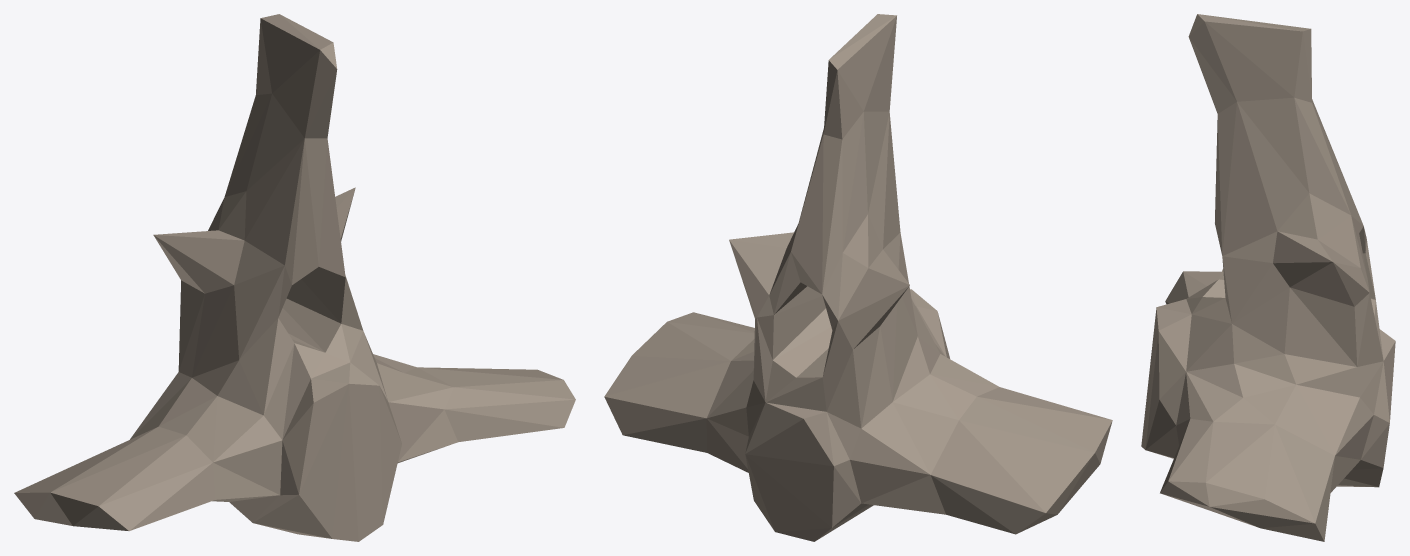
The model's file is SM_Bones_21.fbx.
3 renders of one model, left to right at view 1: azimuth 30°, elevation 25°; view 2: azimuth 150°, elevation 25°; view 3: azimuth 270°, elevation 25°, orthographic. The views are drawn at different scales.
Visible parts, largest first — view 1: SM_Bones_21; view 2: SM_Bones_21; view 3: SM_Bones_21.
Boxes of the visible parts, x1,y1,x2,y2 form: SM_Bones_21: (14,14,575,541); SM_Bones_21: (604,14,1112,541); SM_Bones_21: (1141,14,1395,541).
Size of the model in its own units: 28.18 by 27.39 by 13.54.
1 material, 1 textured.
